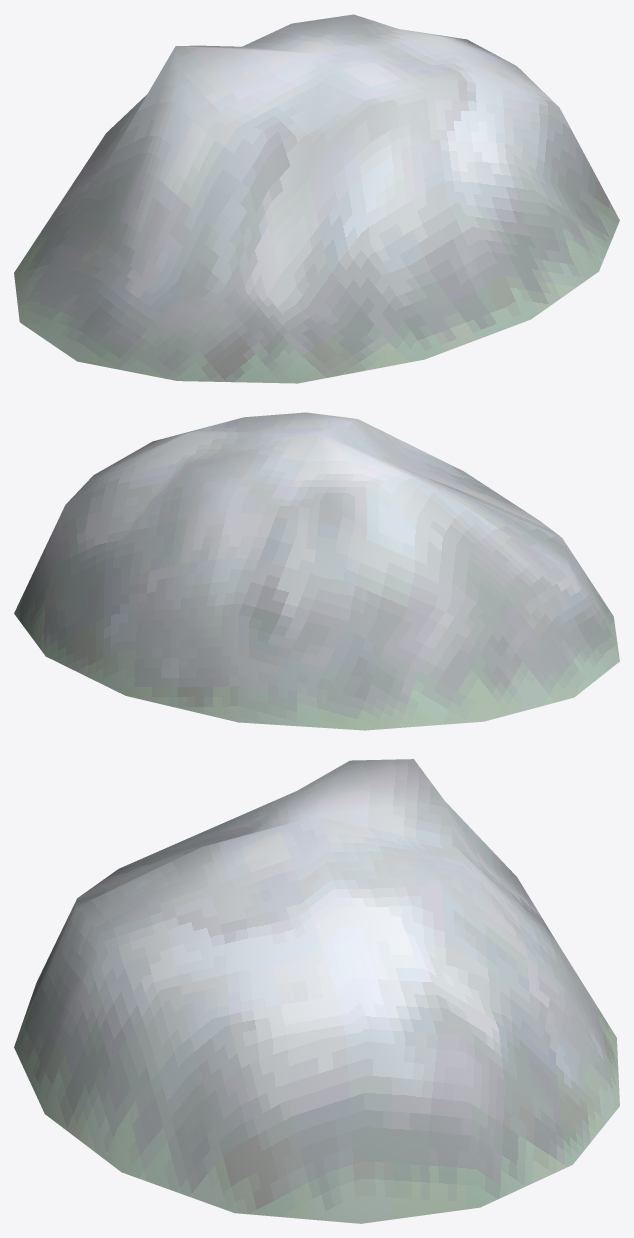
The model's file is TROLLHOLE02_STONEA001.fbx.
The picture shows the model from 3 angles, top to bottom: view 1: azimuth 30°, elevation 25°; view 2: azimuth 150°, elevation 25°; view 3: azimuth 270°, elevation 25°; orthographic projection. The views are drawn at different scales.
Parts seen in each view (by area): view 1: TROLLHOLE02_STONEA001; view 2: TROLLHOLE02_STONEA001; view 3: TROLLHOLE02_STONEA001.
Part boxes in pixels (bbox=[...]): TROLLHOLE02_STONEA001: bbox=[14, 14, 619, 383]; TROLLHOLE02_STONEA001: bbox=[14, 412, 619, 730]; TROLLHOLE02_STONEA001: bbox=[14, 759, 619, 1223].
Size of the model in its own units: 17451 by 6088 by 13593.
Materials: 1 (1 with a texture image).
